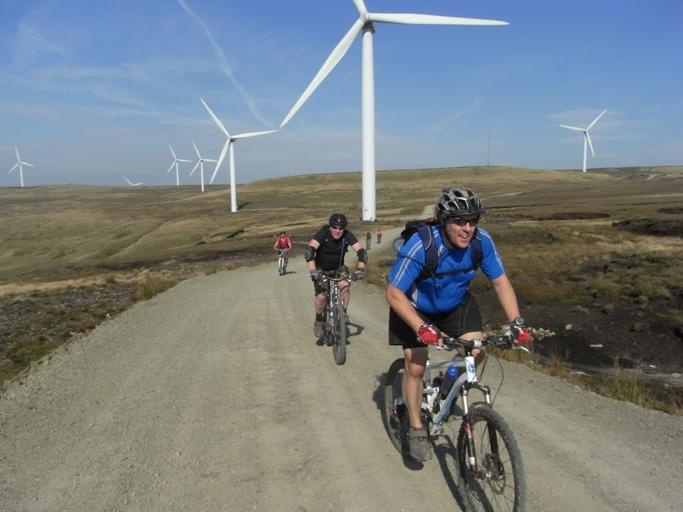non-vehicle: (383, 333, 526, 511), (310, 272, 352, 365), (275, 248, 287, 274)
